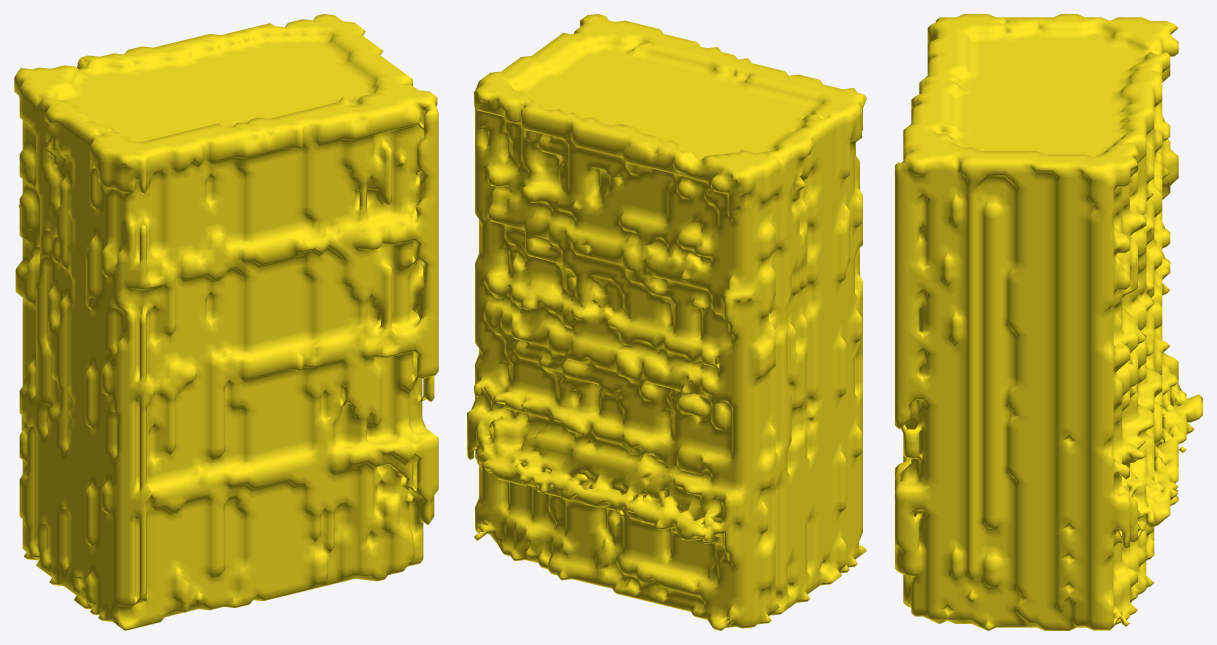
The model's file is gen4_colored.obj.
The picture shows the model from 3 angles, left to right: view 1: azimuth 30°, elevation 25°; view 2: azimuth 150°, elevation 25°; view 3: azimuth 270°, elevation 25°; orthographic projection. The views are drawn at different scales.
Parts seen in each view (by area): view 1: gen4.obj; view 2: gen4.obj; view 3: gen4.obj.
Part boxes in pixels (x1,y1,x2,y2): gen4.obj: (14,14,438,630); gen4.obj: (467,14,866,630); gen4.obj: (895,14,1202,630).
Bounding box in the file's own units: 46 × 64 × 38.
